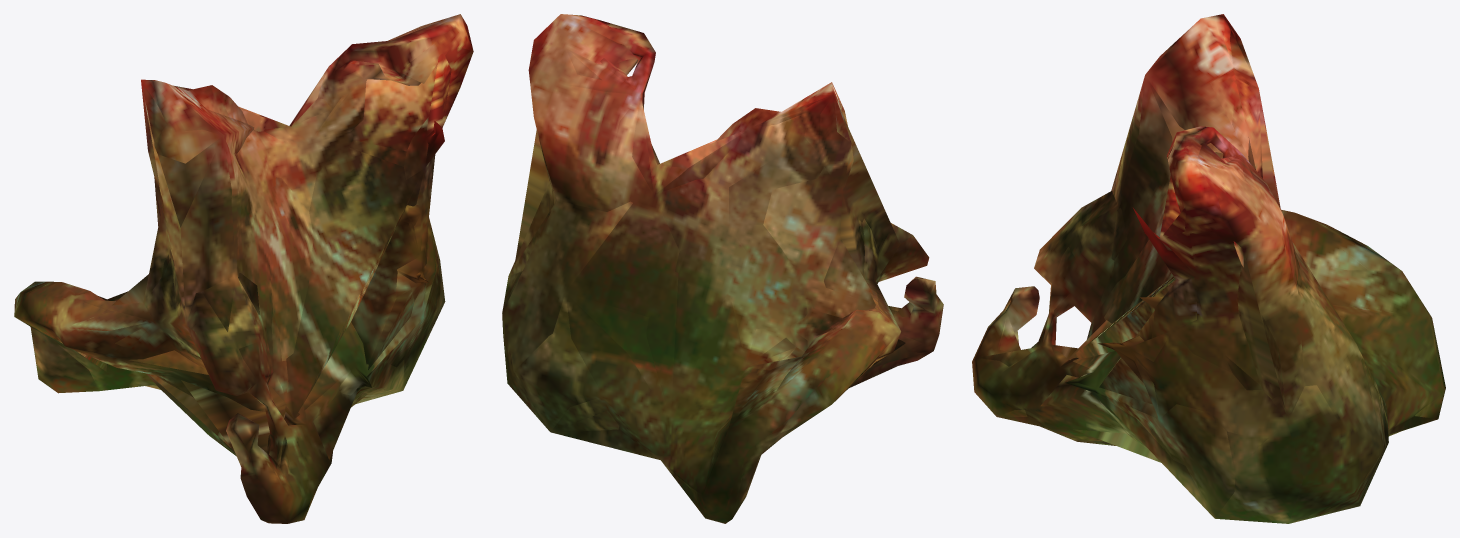
Rendered from af_mincer_meat.fbx.
3 views of the same model, side by side, from view 1: azimuth 30°, elevation 25°; view 2: azimuth 150°, elevation 25°; view 3: azimuth 270°, elevation 25° (orthographic). The views are drawn at different scales.
Visible parts, largest first — view 1: 0; view 2: 0; view 3: 0.
Part boxes in pixels (x1,y1,x2,y2): 0: [14, 14, 473, 523]; 0: [502, 14, 943, 523]; 0: [972, 14, 1445, 523].
Bounding box in the file's own units: 0.3185 × 0.2992 × 0.3225.
